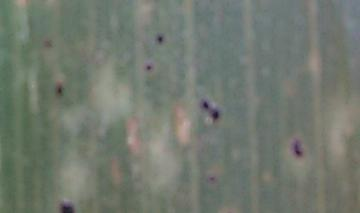tarspot: (290, 138, 303, 158), (59, 201, 74, 213), (55, 82, 65, 98), (210, 108, 220, 123), (200, 99, 211, 112), (43, 38, 54, 50), (156, 32, 164, 45), (208, 174, 217, 184), (145, 63, 153, 73)
